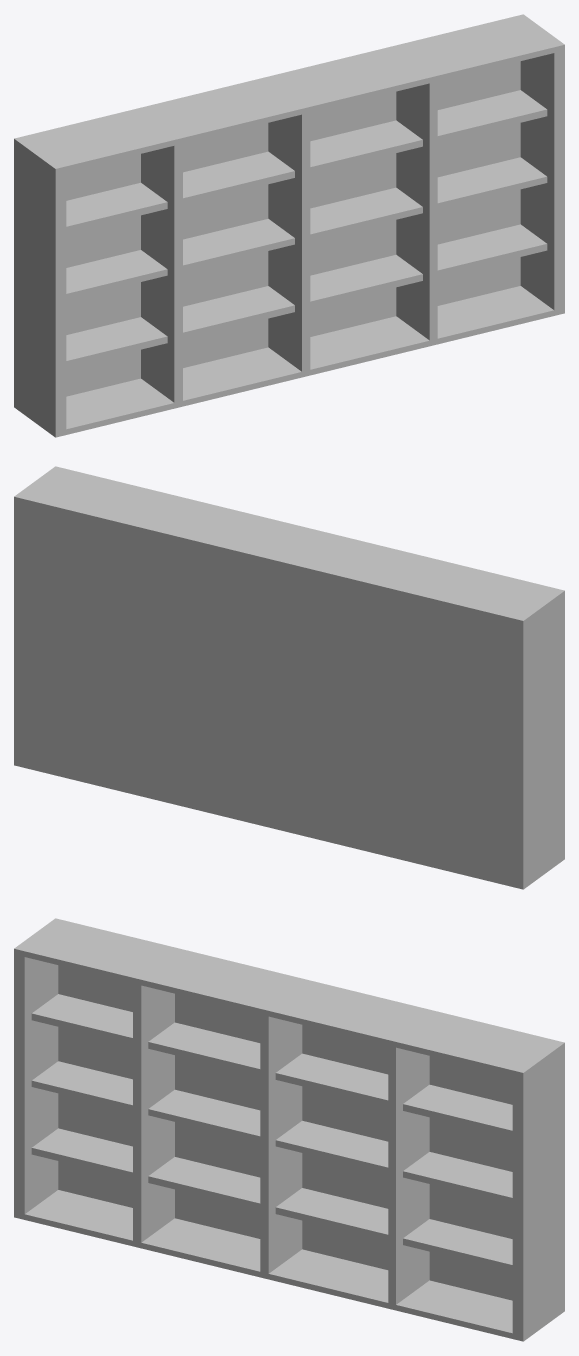
File: Shelf_laser_room.fbx
3 views of the same model, one above another, from view 1: azimuth 30°, elevation 25°; view 2: azimuth 150°, elevation 25°; view 3: azimuth 330°, elevation 25° (orthographic).
Parts seen in each view (by area): view 1: Cube; view 2: Cube; view 3: Cube.
Boxes of the visible parts, box(x1,y1,x2,y2) form: Cube: box(14, 14, 564, 437); Cube: box(14, 466, 564, 889); Cube: box(14, 918, 564, 1341).
Size of the model in its own units: 802 by 404 by 113.
Materials: 1 (1 with a texture image).
